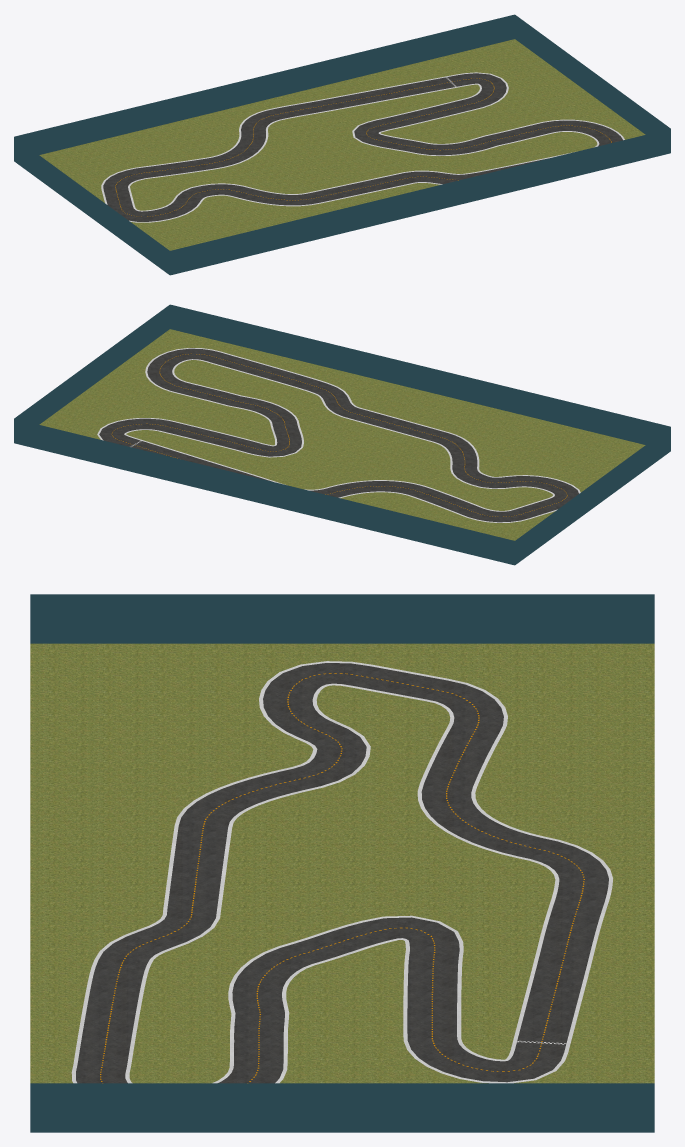
Rendered from arctic_pro_ccw.dae.
3 renders of one model, top to bottom at view 1: azimuth 30°, elevation 25°; view 2: azimuth 150°, elevation 25°; view 3: azimuth 270°, elevation 25°, orthographic. The views are drawn at different scales.
Visible parts, largest first — view 1: field, wall, road, il, ol, cl; view 2: field, wall, road, il, ol, cl; view 3: field, road, wall, ol, il, cl.
Part boxes in pixels (bbox=[...]): field: bbox=[39, 39, 645, 250]; wall: bbox=[14, 14, 670, 275]; road: bbox=[103, 73, 622, 221]; il: bbox=[128, 83, 599, 211]; ol: bbox=[101, 72, 624, 222]; cl: bbox=[115, 78, 611, 216]; field: bbox=[39, 329, 645, 540]; wall: bbox=[14, 304, 670, 565]; road: bbox=[99, 348, 578, 522]; il: bbox=[124, 359, 554, 511]; ol: bbox=[97, 348, 580, 522]; cl: bbox=[111, 353, 567, 516]; field: bbox=[30, 643, 654, 1083]; road: bbox=[76, 663, 608, 1083]; wall: bbox=[30, 594, 654, 1132]; ol: bbox=[71, 661, 612, 1083]; il: bbox=[125, 683, 559, 1083]; cl: bbox=[100, 673, 584, 1083].
Size of the model in its own units: 21.32 by 11.5 by 1.
Materials: 7 (7 with a texture image).
